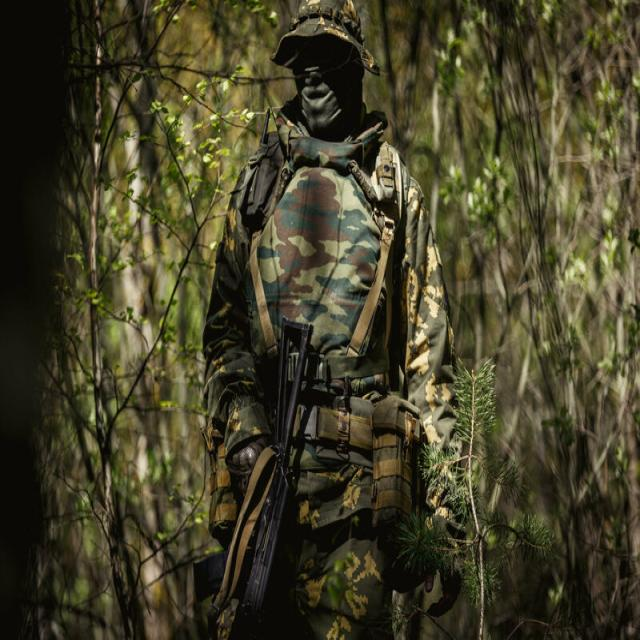human: (204, 0, 455, 639)
